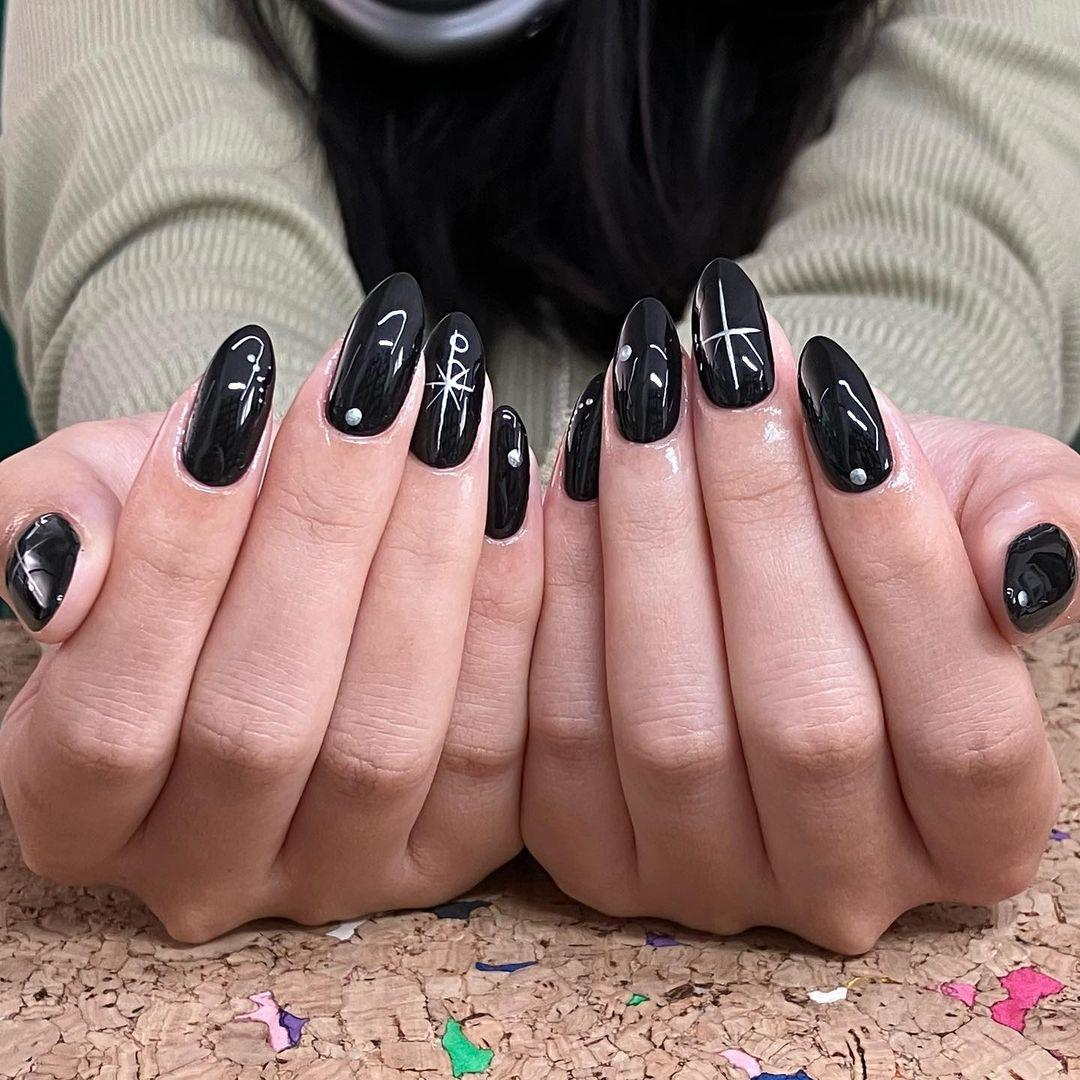nail: (322, 270, 426, 439), (175, 322, 275, 490), (796, 333, 893, 494), (689, 255, 775, 409), (408, 310, 485, 469), (611, 295, 682, 444), (3, 509, 80, 631), (1001, 520, 1078, 635), (484, 403, 530, 541), (560, 371, 604, 502)
